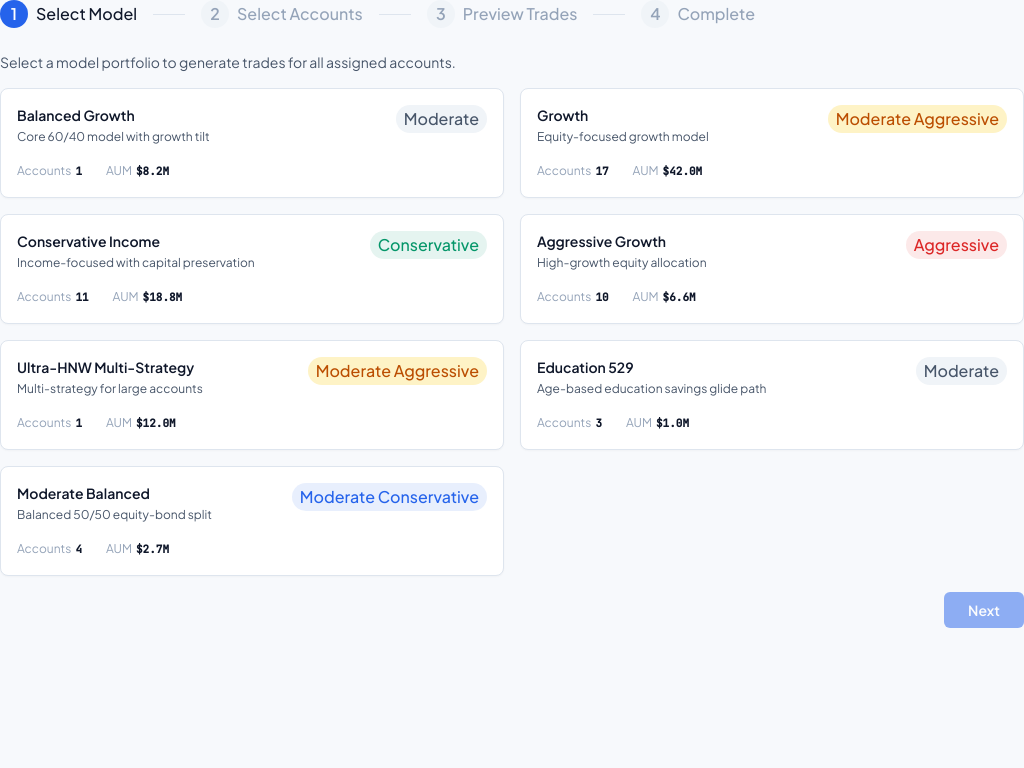
Test: ModelTradeView renders the account's own data, not a hash of its id › step 2 renders each account's value in its own currency — acc-041 (HKD) converted, acc-002 (USD) untouched
The width and height of the screenshot is (1024, 768).
Click the heading "Growth": click(563, 115) top-left (537, 106), bottom-right (588, 124)
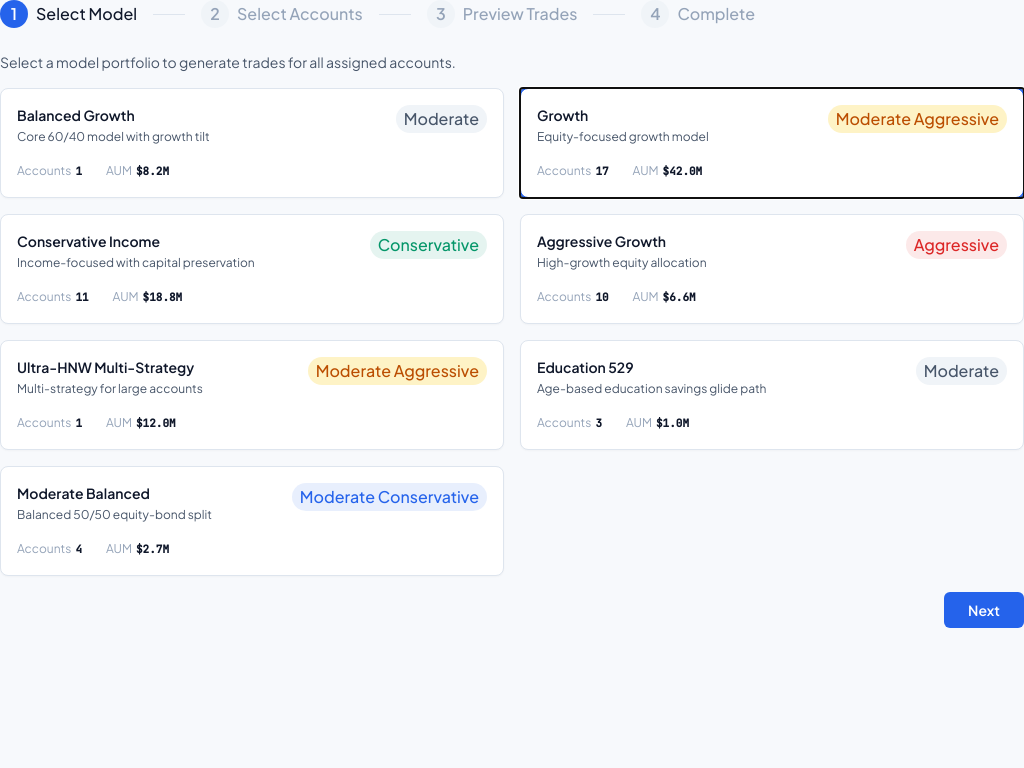
Click the button "Next": click(984, 610) top-left (944, 592), bottom-right (1023, 628)
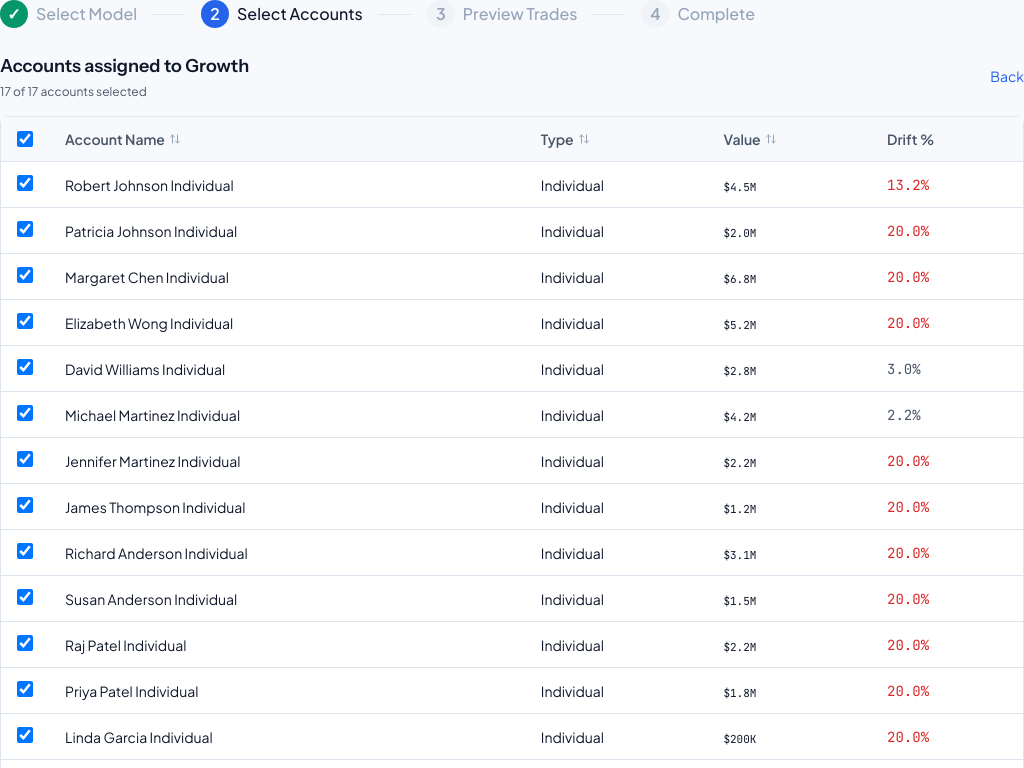
Check: the text "$4.5M" is shown, box top-left (723, 180), bottom-right (756, 194)
